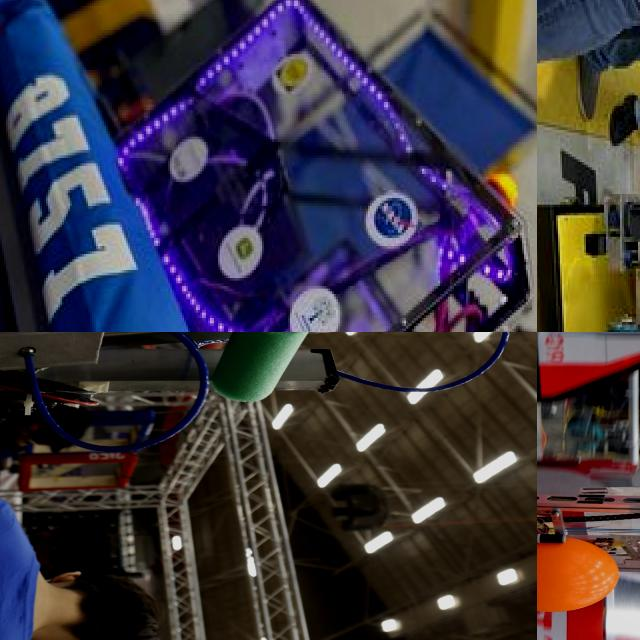FRC-Robots: (0, 0, 537, 332), (0, 332, 537, 481), (537, 332, 640, 640), (549, 131, 640, 332)
